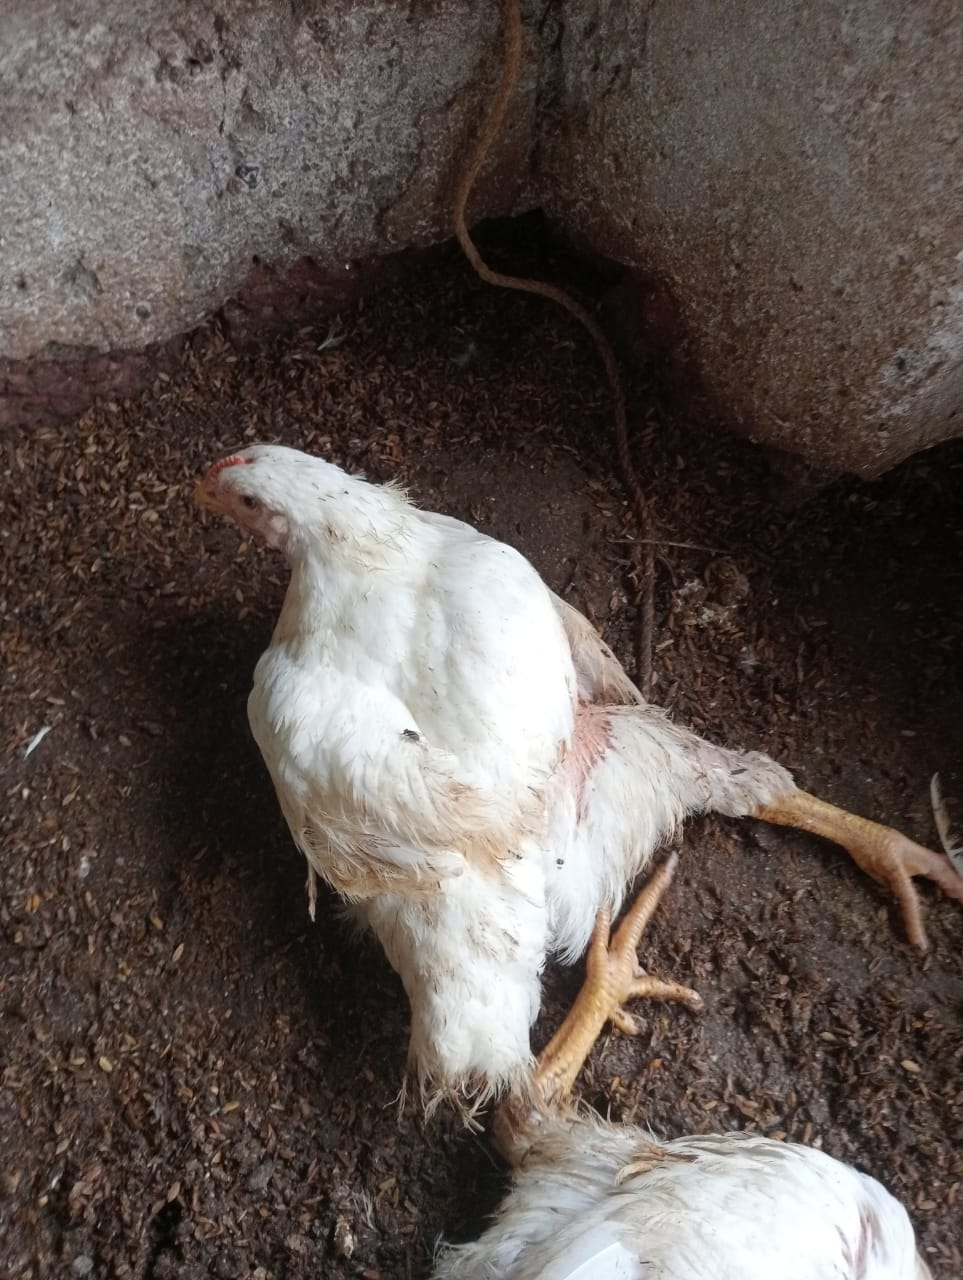Unhealthy: (160, 383, 934, 1081)
